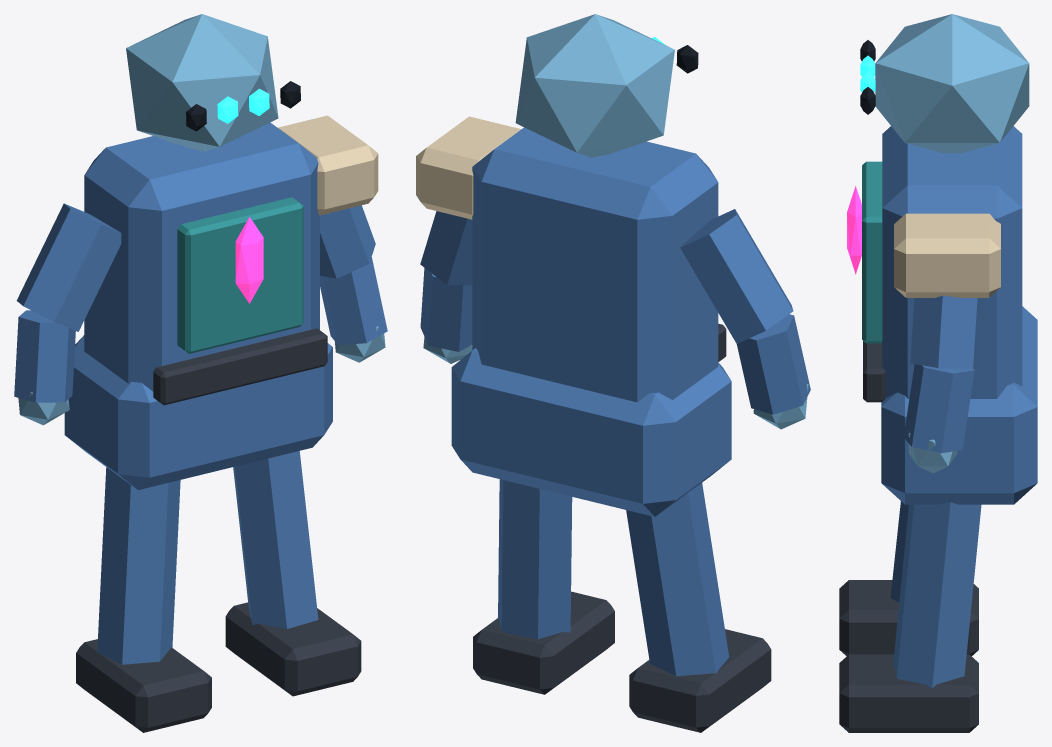
File: npcs_033_seed78877.glb
3 renders of one model, left to right at view 1: azimuth 30°, elevation 25°; view 2: azimuth 150°, elevation 25°; view 3: azimuth 270°, elevation 25°, orthographic. The views are drawn at different scales.
Parts seen in each view (by area): view 1: npcs_033_seed78877; view 2: npcs_033_seed78877; view 3: npcs_033_seed78877.
Part boxes in pixels (x1,y1,x2,y2): npcs_033_seed78877: [14, 14, 387, 732]; npcs_033_seed78877: [416, 14, 810, 732]; npcs_033_seed78877: [839, 14, 1037, 732].
Bounding box in the file's own units: 0.9006 × 1.54 × 0.4139.
